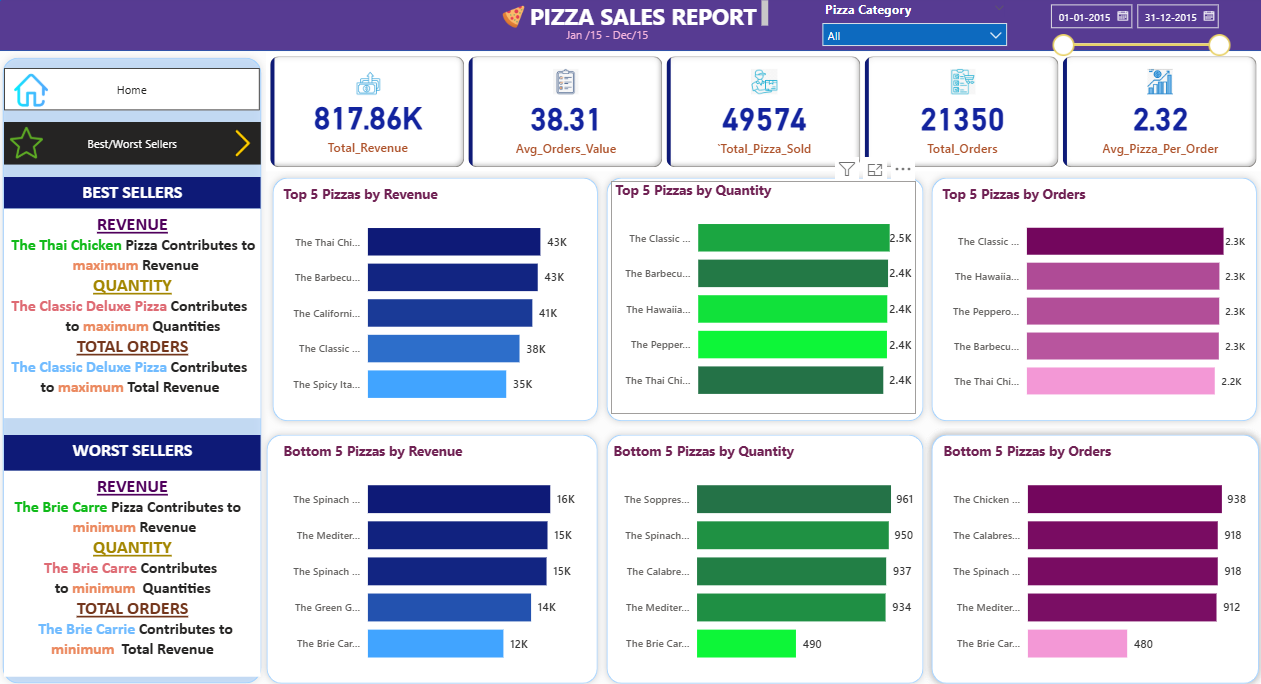

Layout of this report page (visuals, bound fields, positions):
{"tool":"powerbi","page":{"name":"Best/Worst Sellers","canvas":[1500,820],"ordinal":1},"visuals":[{"type":"shape","box":[0,65.3,321.3,754.7],"z":0},{"type":"cardVisual","fields":{"Data":["pizza_sales.Total_Revenue","pizza_sales.Avg_Orders_Value","pizza_sales.`Total_Pizza_Sold","pizza_sales.Total_Orders","pizza_sales.Avg_Pizza_Per_Order"]},"box":[318.9,65.6,1178.9,141.1],"z":1000},{"type":"shape","box":[0,0,1500.3,65.3],"z":2000},{"type":"textbox","box":[620.1,0,296.8,42.8],"z":3000},{"type":"textbox","box":[668.9,32.2,133.3,33.3],"z":4000},{"type":"image","box":[591.5,6.1,38.8,36.7],"z":5000},{"type":"shape","box":[318.9,206.7,400,303.3],"z":6000},{"type":"textbox","box":[9.2,214.2,302.9,36.7],"z":7000},{"type":"textbox","box":[8.9,251.1,303.3,246.7],"z":8000},{"type":"textbox","box":[8.9,518.9,303.3,42.2],"z":9000},{"type":"textbox","box":[8.9,561.1,303.3,243.3],"z":10000},{"type":"slicer","fields":{"Values":["pizza_sales.pizza_category"]},"box":[965.8,0,237.6,65.3],"z":11000},{"type":"slicer","fields":{"Values":["pizza_sales.order_date"]},"box":[1233.1,0,233.9,74.4],"z":12000},{"type":"shape","box":[713.3,206.7,390,303.3],"z":13000},{"type":"shape","box":[1097.8,206.7,400,303.3],"z":14000},{"type":"shape","box":[312.2,510,406.7,310],"z":15000},{"type":"shape","box":[713.3,510,390,310],"z":16000},{"type":"shape","box":[1097.8,510,402.2,310],"z":17000},{"type":"barChart","title":"Top 5 Pizzas by Revenue ","fields":{"Category":["pizza_sales.pizza_name"],"Y":["pizza_sales.Total_Revenue"]},"box":[334.4,223.3,367.8,274.4],"z":18000},{"type":"barChart","title":"Bottom 5 Pizzas by Revenue ","fields":{"Category":["pizza_sales.pizza_name"],"Y":["pizza_sales.Total_Revenue"]},"box":[334.4,526.7,367.8,277.8],"z":19000},{"type":"barChart","title":"Top 5 Pizzas by Quantity","fields":{"Category":["pizza_sales.pizza_name"],"Y":["pizza_sales.`Total_Pizza_Sold"]},"box":[726.7,218.9,360,274.4],"z":20000},{"type":"barChart","title":"Bottom 5 Pizzas by Quantity","fields":{"Category":["pizza_sales.pizza_name"],"Y":["pizza_sales.`Total_Pizza_Sold"]},"box":[724.4,526.7,364.4,277.8],"z":21000},{"type":"shape","box":[1097.8,510,402.2,310],"z":22000},{"type":"shape","box":[1097.8,510,402.2,310],"z":23000},{"type":"barChart","title":"Top 5 Pizzas by Orders","fields":{"Category":["pizza_sales.pizza_name"],"Y":["pizza_sales.Total_Orders"]},"box":[1112.2,223.3,367.8,270],"z":24000},{"type":"barChart","title":"Bottom 5 Pizzas by Orders","fields":{"Category":["pizza_sales.pizza_name"],"Y":["pizza_sales.Total_Orders"]},"box":[1113.3,526.7,367.8,277.8],"z":25000},{"type":"pageNavigator","box":[8.9,148.9,303.3,50],"z":26000},{"type":"pageNavigator","box":[9.4,85,302.4,50.8],"z":27000},{"type":"image","box":[270,148.9,42.2,50],"z":28000},{"type":"image","box":[9.4,86.2,65,49.6],"z":29000},{"type":"image","box":[8.9,148.9,53.3,48.9],"z":30000}]}

Visuals, with their boxes in screenshot pixels (x1, y1, x2, y2), scaled from the page's 1500x820 canvas onto the 1261x684 screenshot:
shape: <region>0, 54, 270, 683</region>
cardVisual - pizza_sales.Total_Revenue x pizza_sales.Avg_Orders_Value: <region>268, 55, 1259, 172</region>
shape: <region>0, 0, 1260, 54</region>
textbox: <region>521, 0, 771, 36</region>
textbox: <region>562, 27, 674, 55</region>
image: <region>497, 5, 530, 36</region>
shape: <region>268, 172, 604, 425</region>
textbox: <region>8, 179, 262, 209</region>
textbox: <region>7, 209, 262, 415</region>
textbox: <region>7, 433, 262, 468</region>
textbox: <region>7, 468, 262, 671</region>
slicer - pizza_sales.pizza_category: <region>812, 0, 1012, 54</region>
slicer - pizza_sales.order_date: <region>1037, 0, 1233, 62</region>
shape: <region>600, 172, 928, 425</region>
shape: <region>923, 172, 1259, 425</region>
shape: <region>262, 425, 604, 683</region>
shape: <region>600, 425, 928, 683</region>
shape: <region>923, 425, 1260, 683</region>
"Top 5 Pizzas by Revenue " barChart: <region>281, 186, 590, 415</region>
"Bottom 5 Pizzas by Revenue " barChart: <region>281, 439, 590, 671</region>
"Top 5 Pizzas by Quantity" barChart: <region>611, 183, 914, 411</region>
"Bottom 5 Pizzas by Quantity" barChart: <region>609, 439, 915, 671</region>
shape: <region>923, 425, 1260, 683</region>
shape: <region>923, 425, 1260, 683</region>
"Top 5 Pizzas by Orders" barChart: <region>935, 186, 1244, 411</region>
"Bottom 5 Pizzas by Orders" barChart: <region>936, 439, 1245, 671</region>
pageNavigator: <region>7, 124, 262, 166</region>
pageNavigator: <region>8, 71, 262, 113</region>
image: <region>227, 124, 262, 166</region>
image: <region>8, 72, 63, 113</region>
image: <region>7, 124, 52, 165</region>
